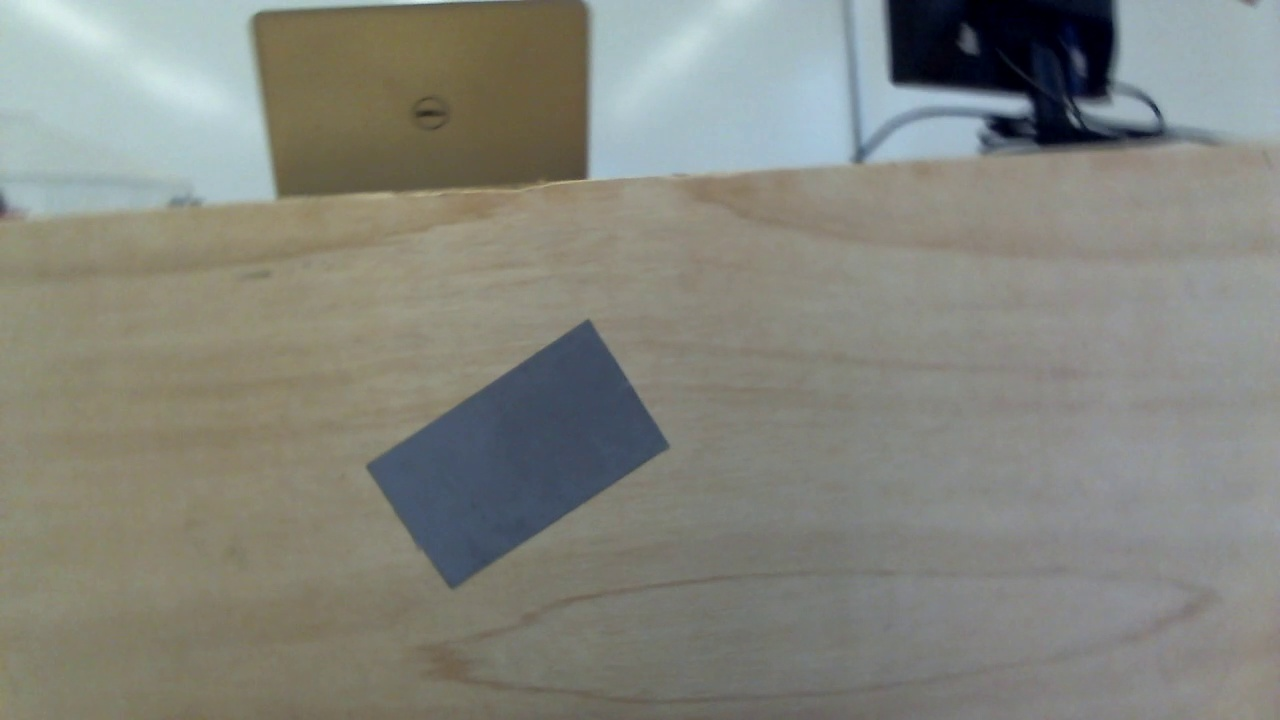Tape: (365, 318, 670, 589)
